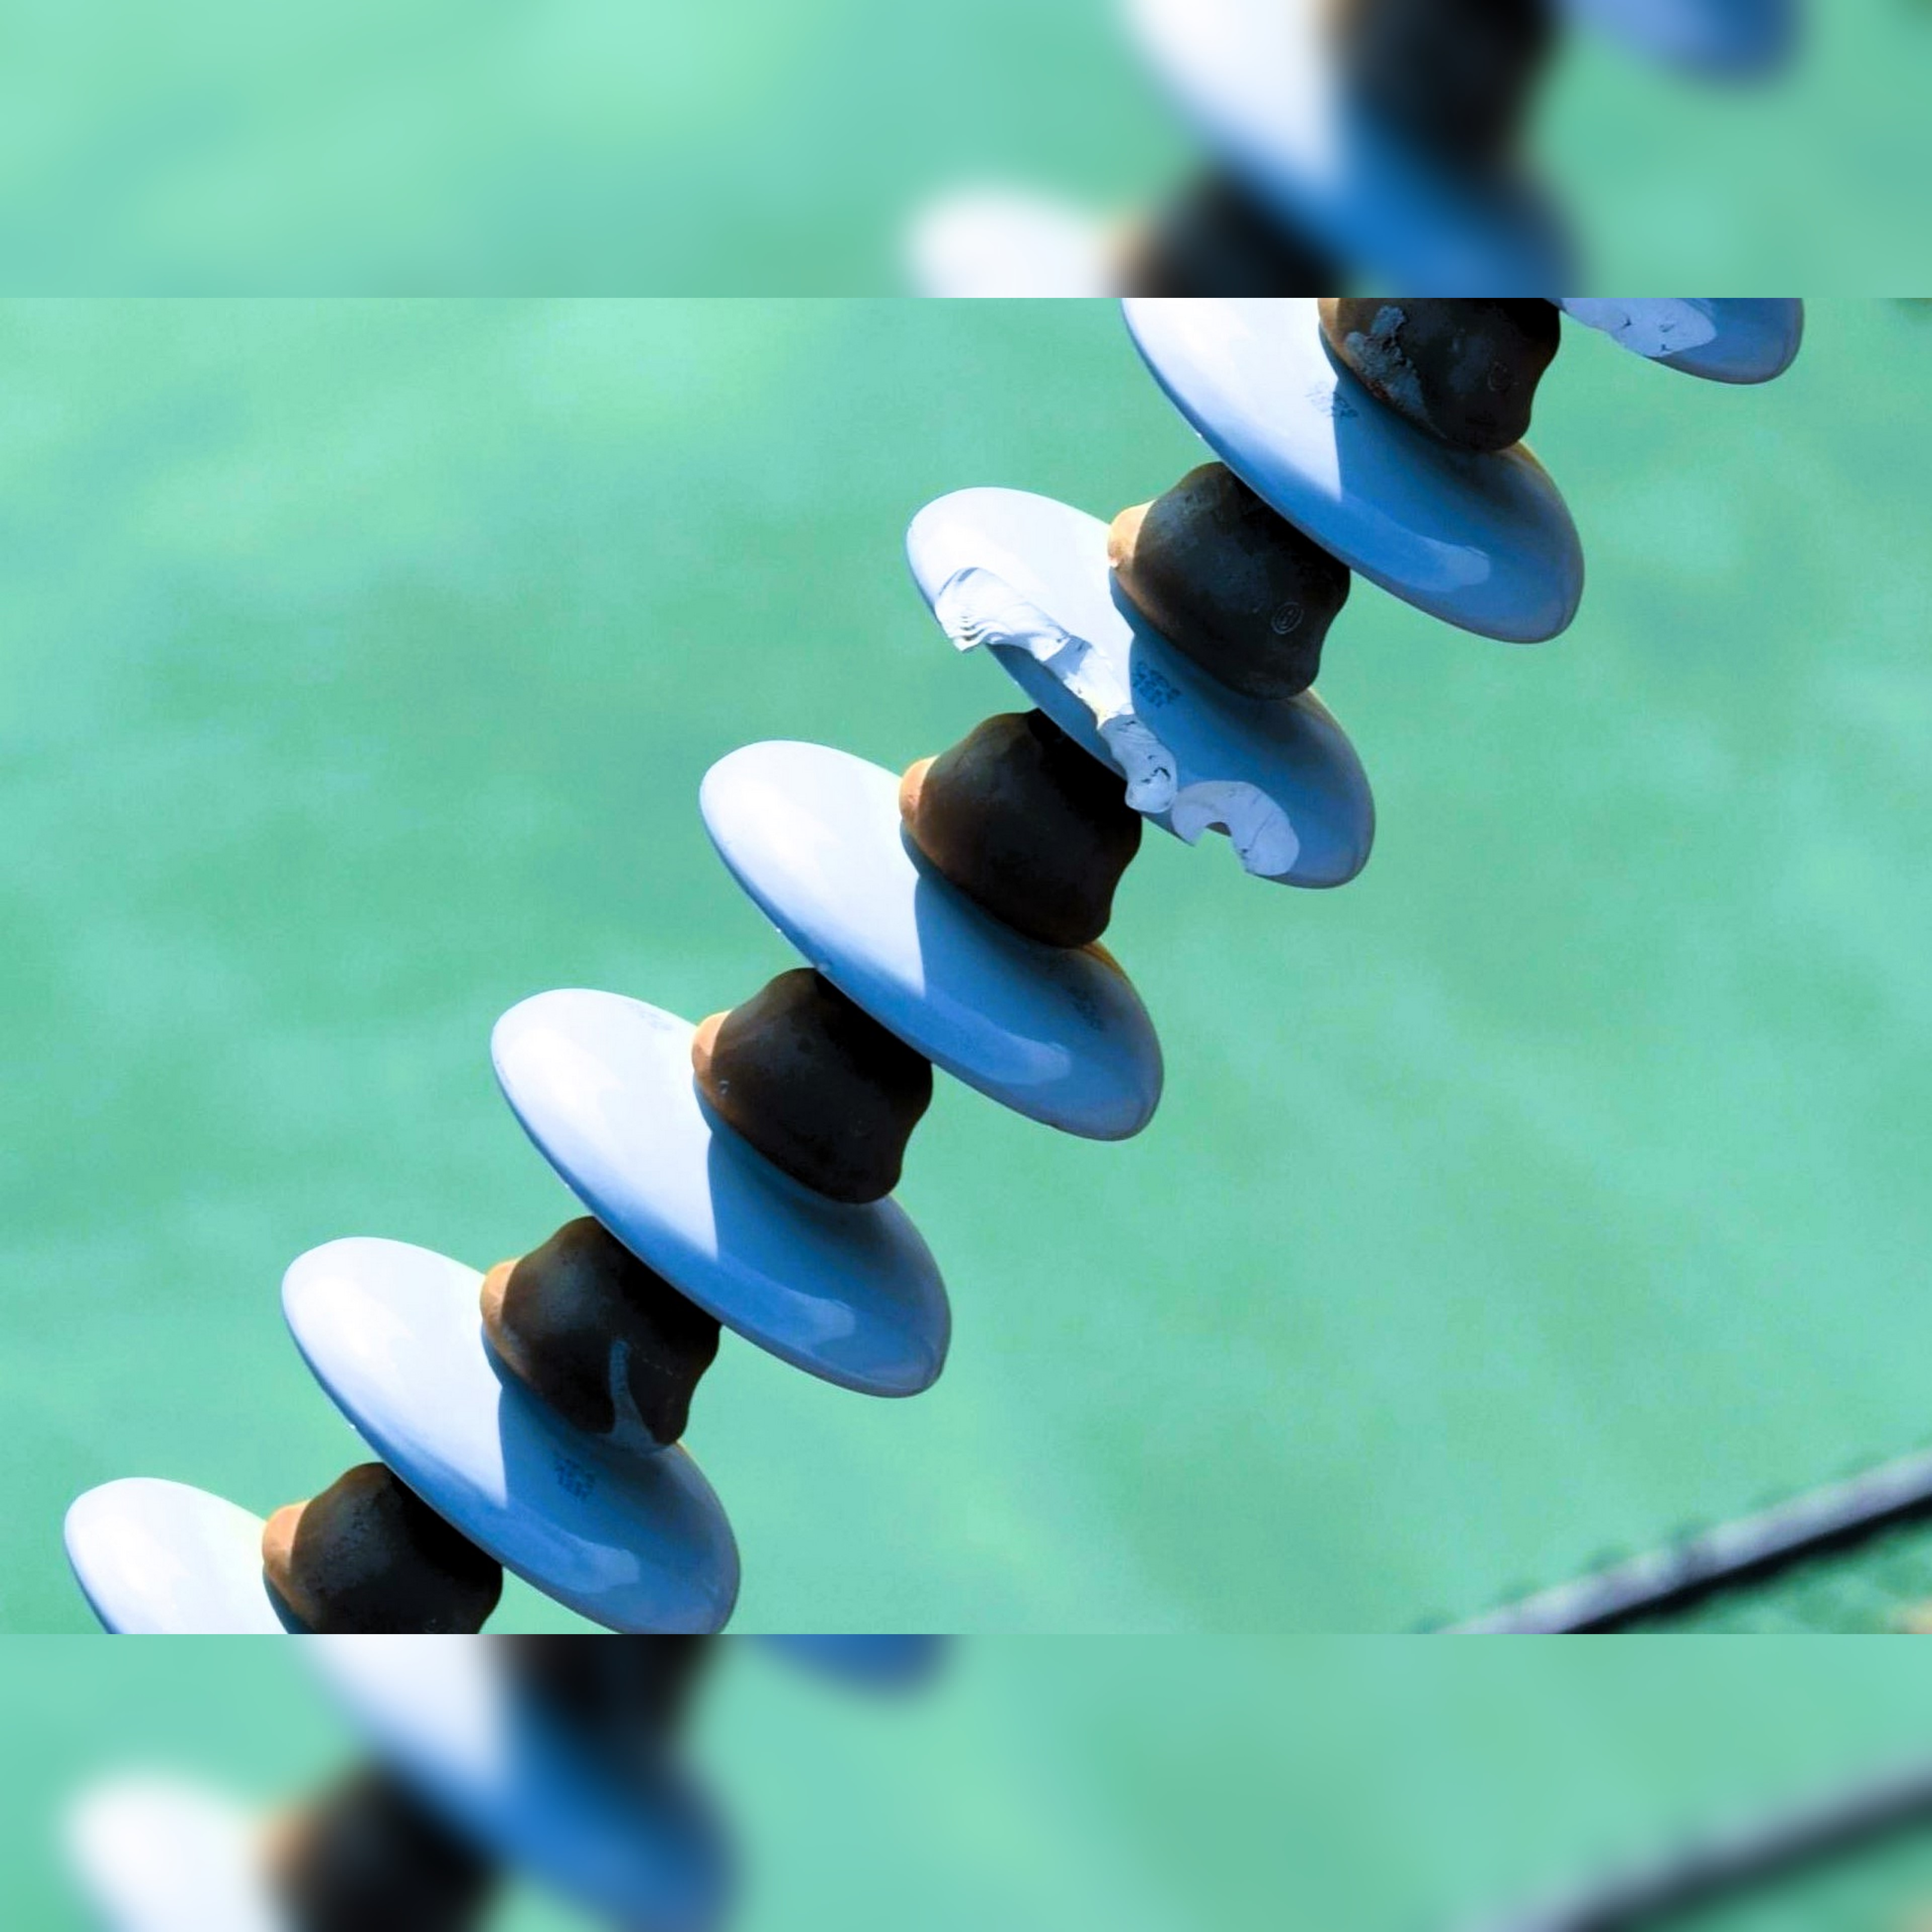insulator breakage: (862, 456, 1369, 909)
